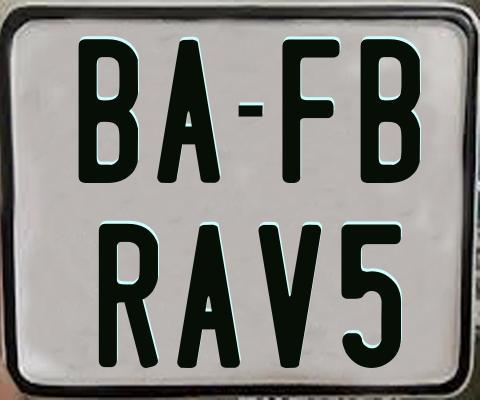5: (341, 224, 402, 374)
A: (177, 223, 245, 371), (156, 38, 220, 181)
B: (358, 38, 422, 186), (76, 36, 139, 181)
F: (281, 39, 339, 189)
R: (97, 222, 156, 366)
V: (258, 223, 323, 367)
